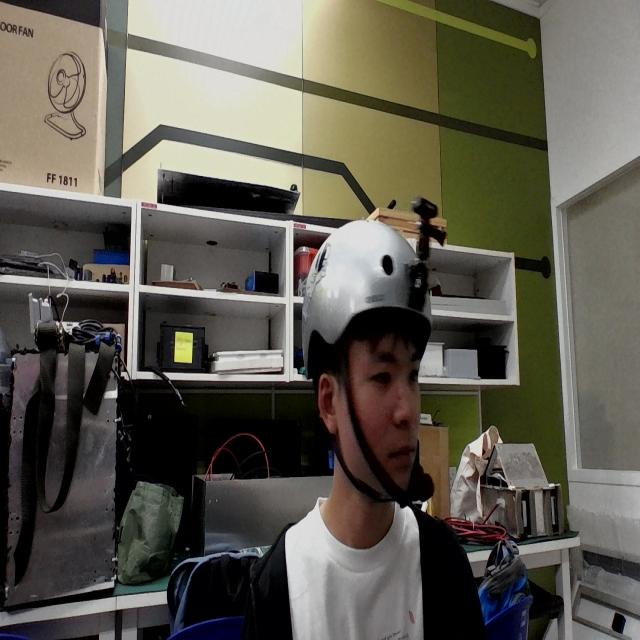With Helmet: (277, 146, 484, 539)
